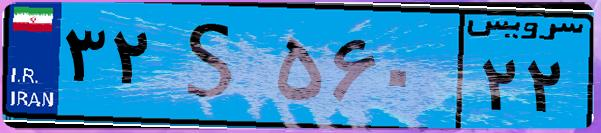0: (385, 28, 445, 110)
2: (475, 38, 525, 113), (525, 38, 570, 115), (110, 28, 158, 98)
3: (57, 26, 110, 100)
5: (270, 28, 330, 110)
6: (330, 28, 385, 110)
S: (158, 12, 270, 120)
